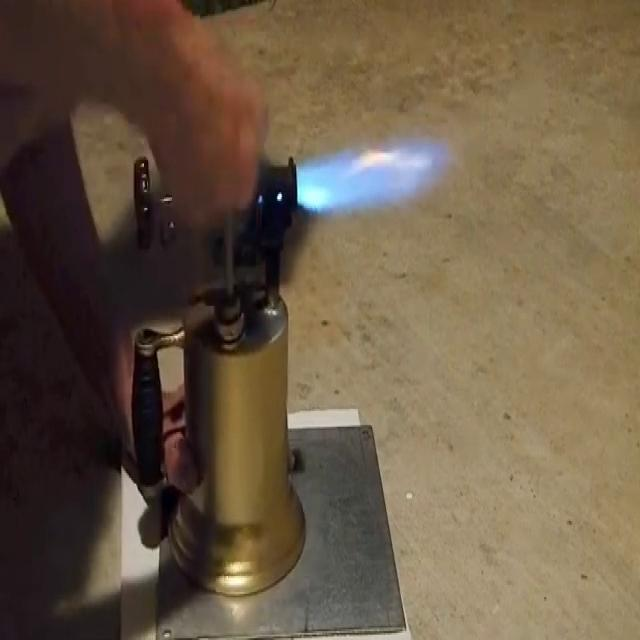fire: (292, 125, 454, 226)
